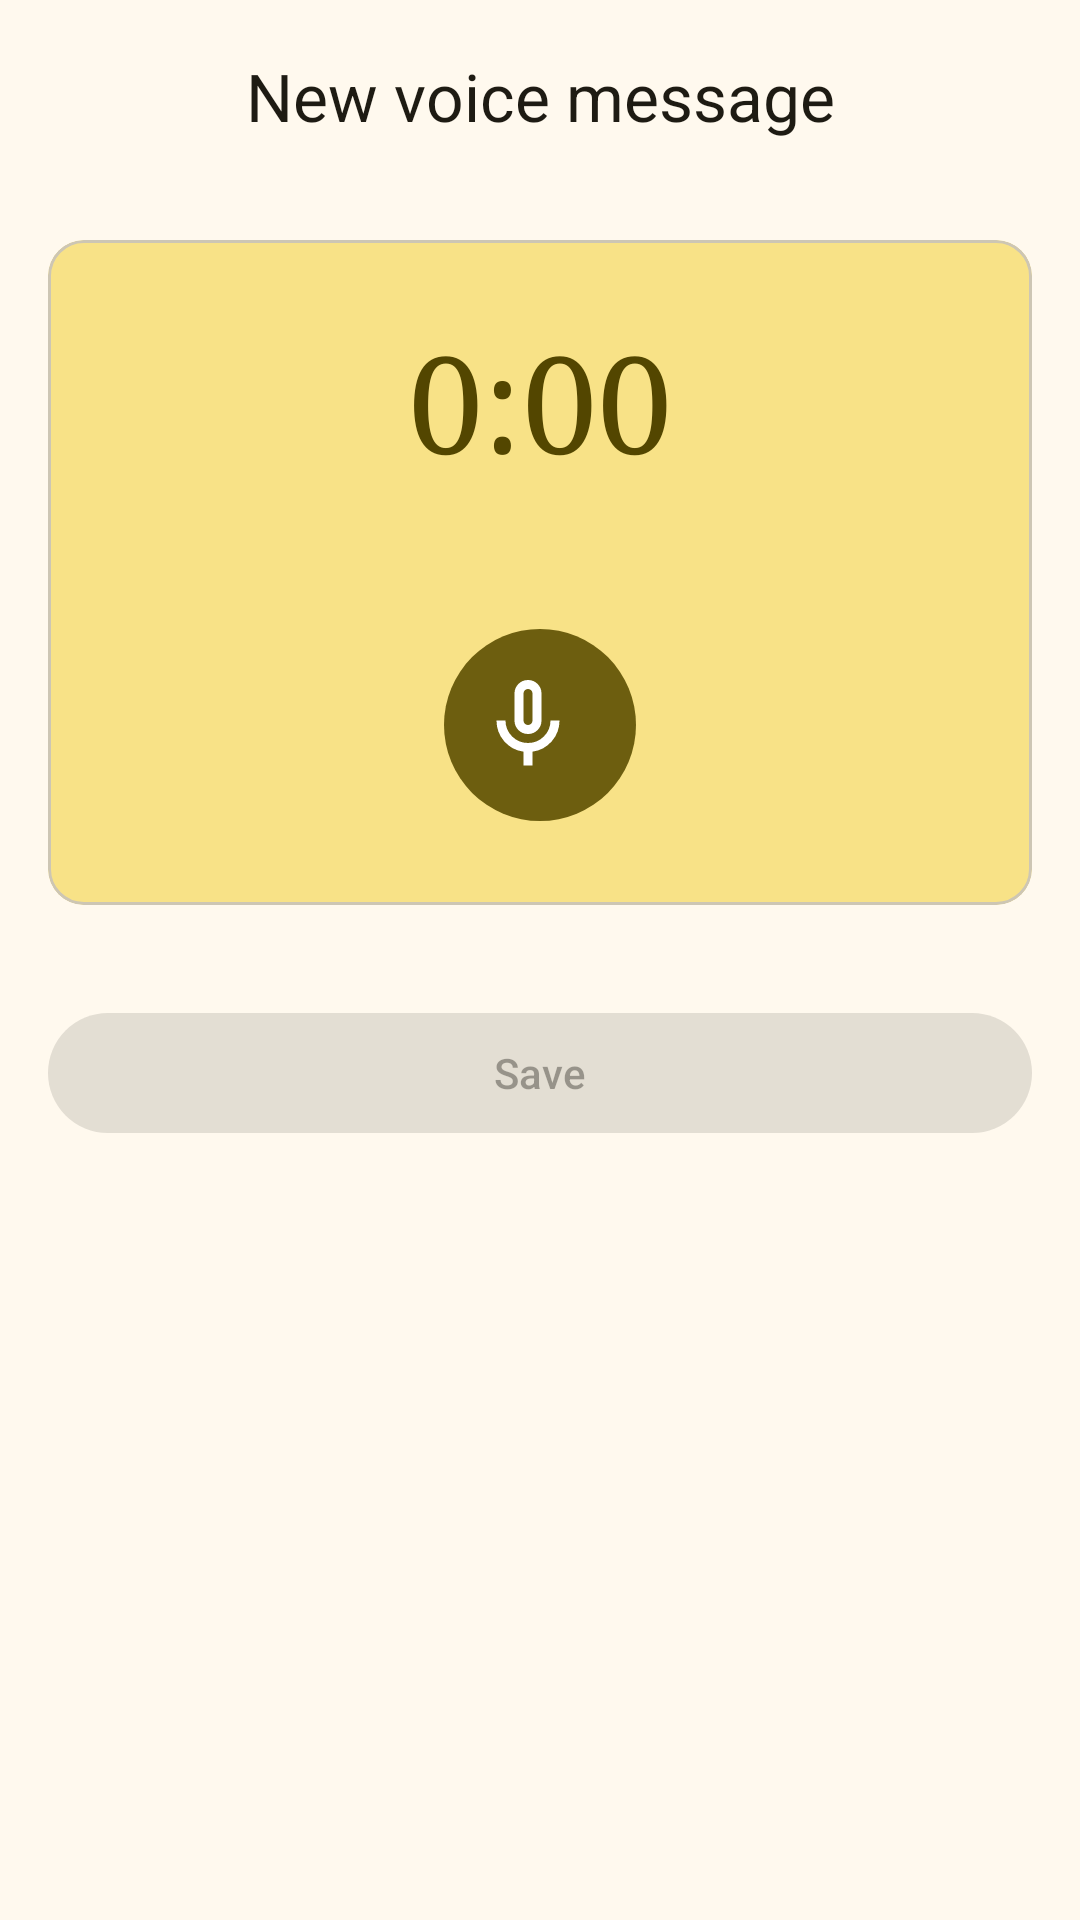

Icon bounding boxes for this 1080×1920 phone screenshot, format BBox(x1, y1, x2, y2):
Start recording: BBox(444, 629, 636, 821)
